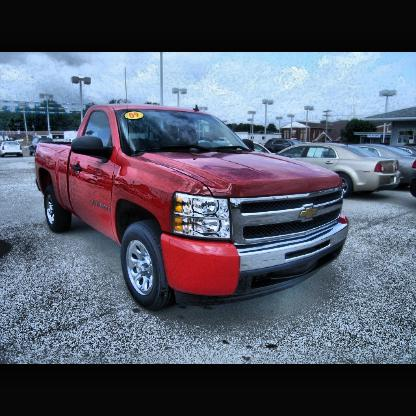Chevrolet Silverado 2500HD Regular Cab 2012: (36, 105, 349, 314)
